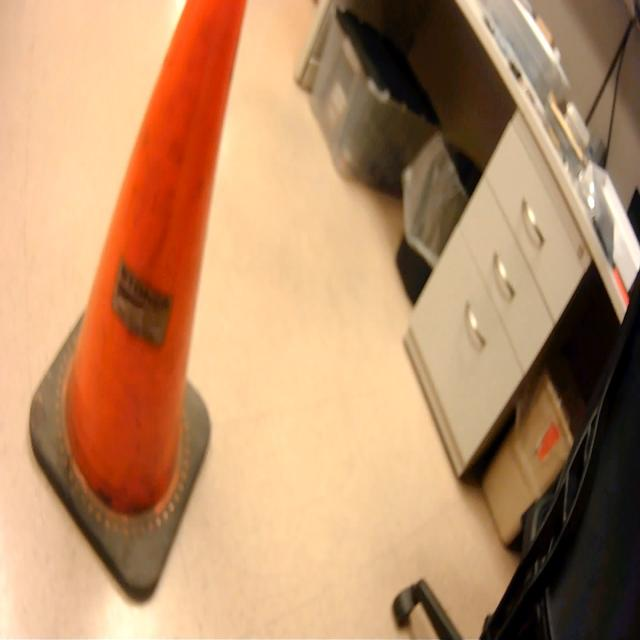traffic cone: (24, 1, 238, 604)
